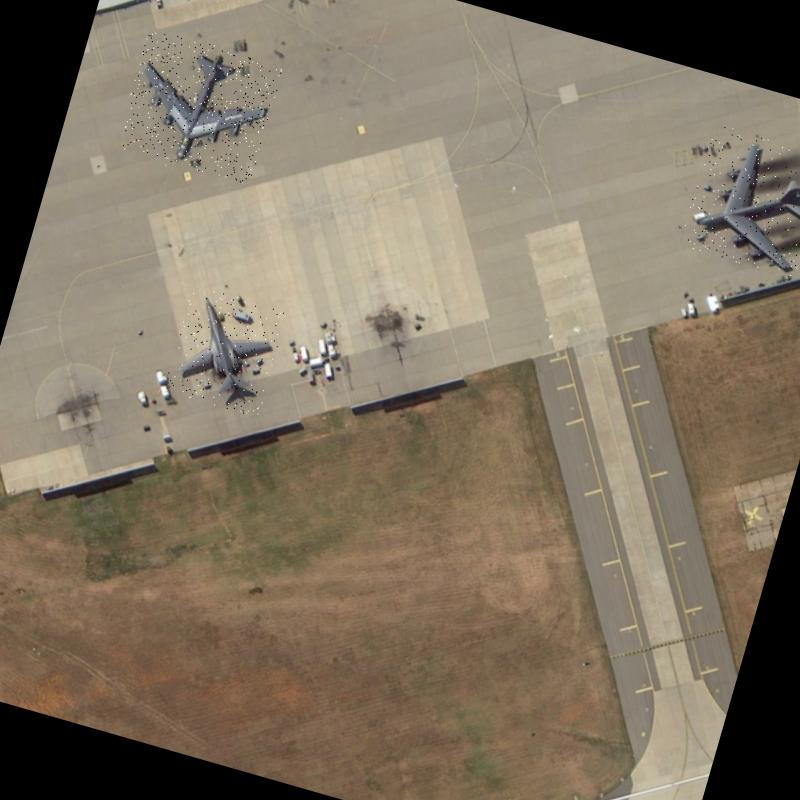A10: (163, 284, 288, 418)
A8: (115, 26, 284, 186), (678, 123, 800, 281)
